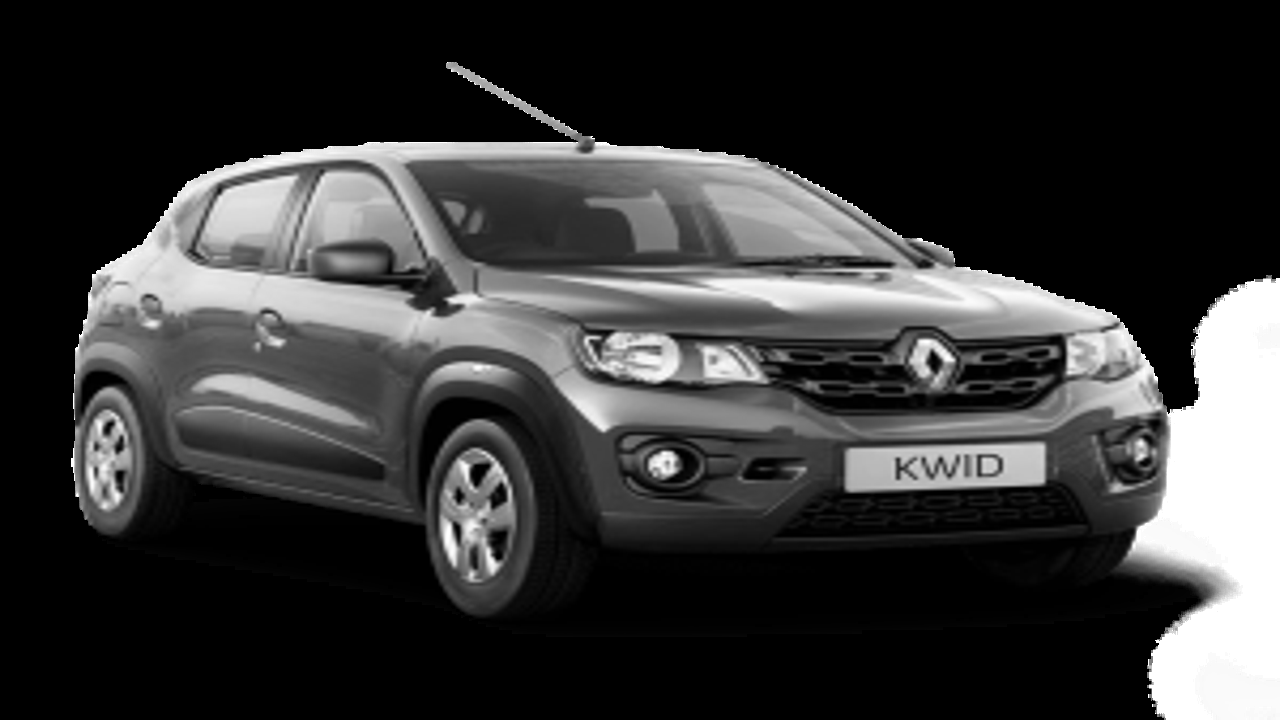license: (840, 437, 1047, 490)
